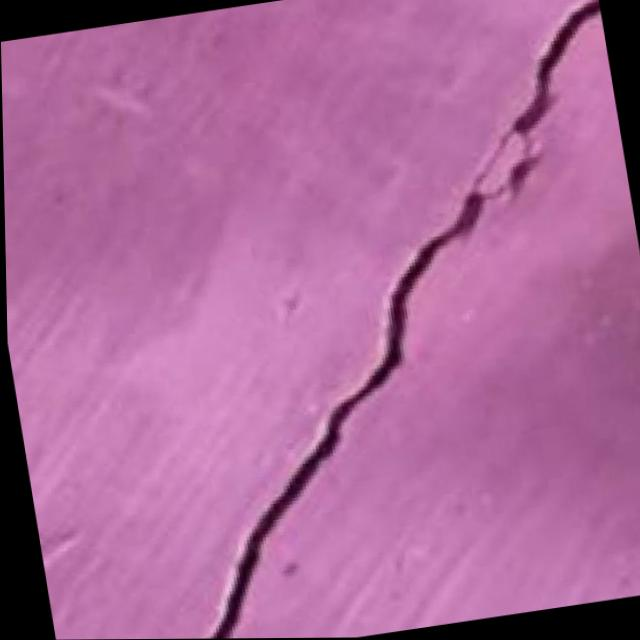Crack: (80, 0, 640, 640)
